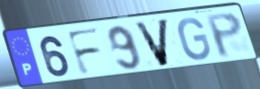6: (38, 34, 72, 79)
9: (106, 24, 143, 72)
F: (65, 27, 104, 78)
G: (177, 16, 213, 62)
P: (204, 10, 244, 60)
V: (132, 17, 171, 69)
